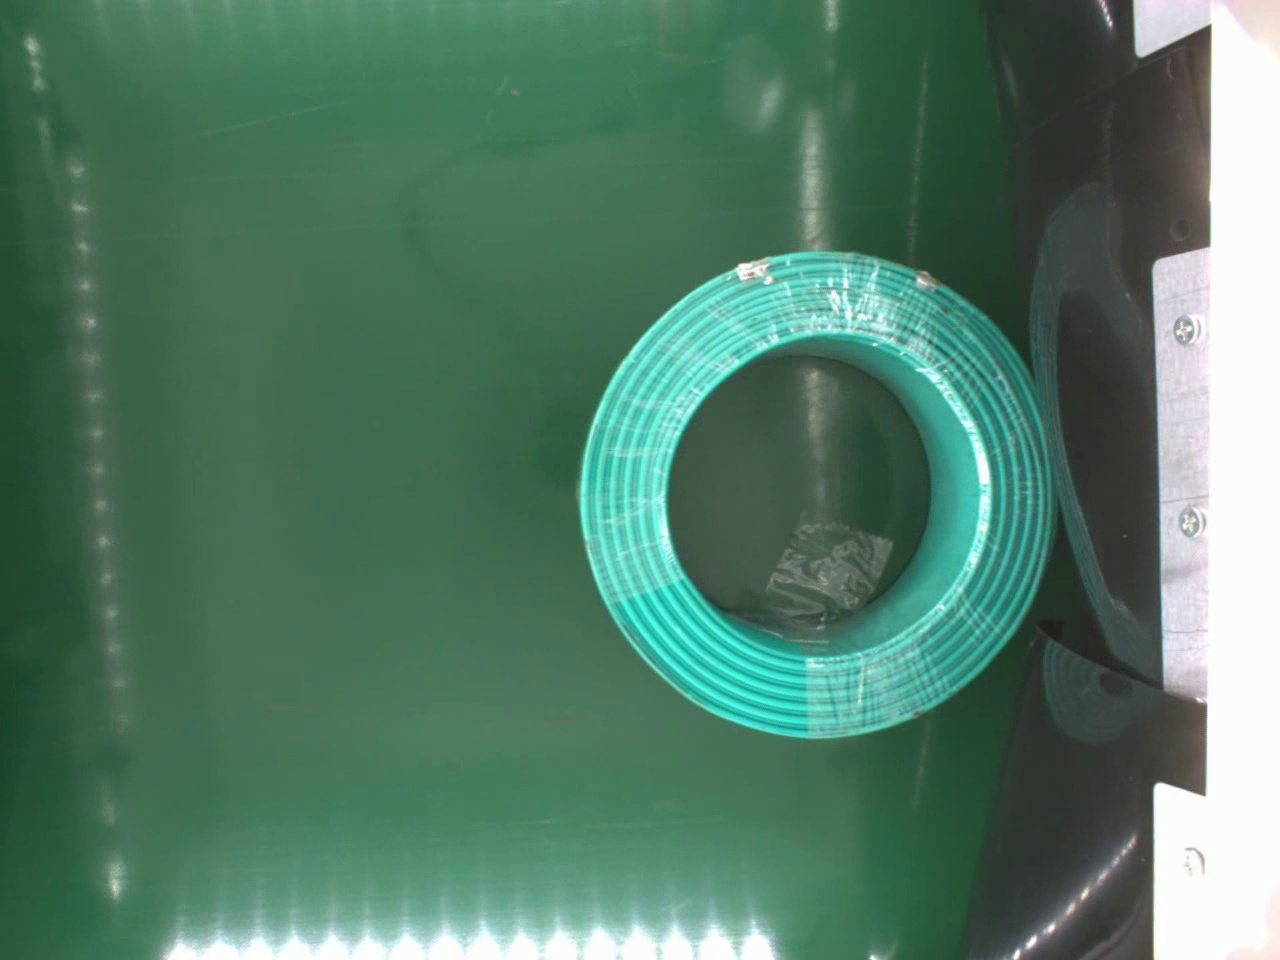green: (574, 247, 1063, 748)
